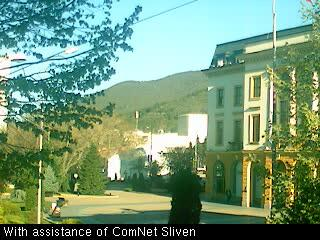person: (225, 186, 232, 205)
